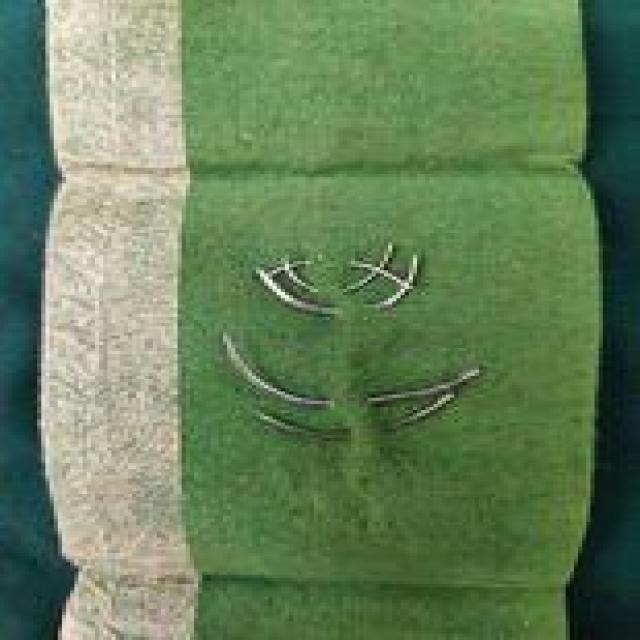Needle: (218, 329, 488, 410), (252, 248, 426, 317), (244, 392, 458, 442), (280, 239, 396, 295), (264, 258, 417, 292)
